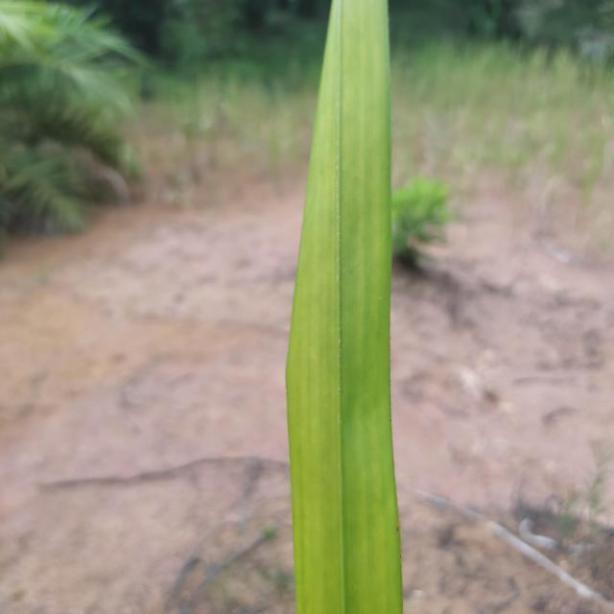nitrogen: (283, 0, 398, 614)
